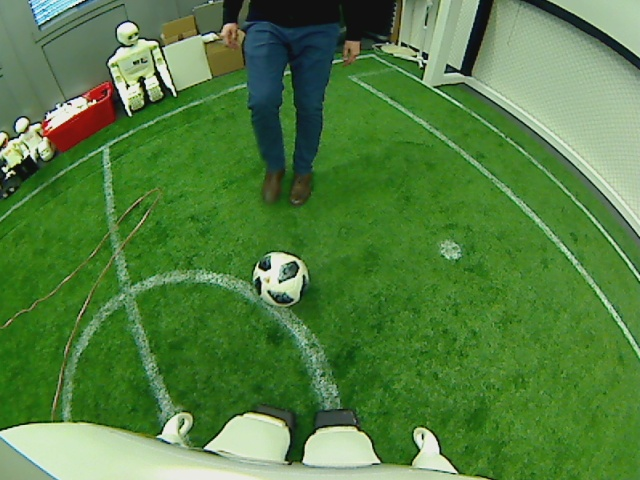ball: (249, 250, 311, 306)
